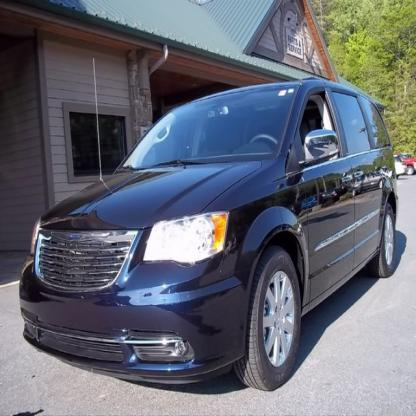Vehicle: (19, 75, 399, 395)
